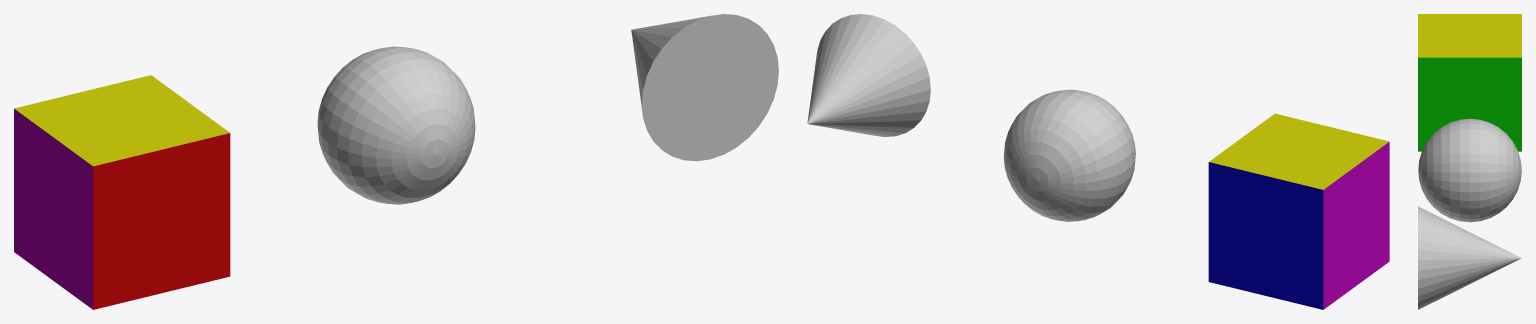
Rendered from lhx.obj.
The picture shows the model from 3 angles, left to right: view 1: azimuth 30°, elevation 25°; view 2: azimuth 150°, elevation 25°; view 3: azimuth 270°, elevation 25°; orthographic projection. The views are drawn at different scales.
Visible parts, largest first — view 1: Cube, Sphere, Cone; view 2: Cube, Sphere, Cone; view 3: Cube, Sphere, Cone.
Part boxes in pixels (left/top/right/bottom): Cube: left=14, top=75, right=230, bottom=309; Sphere: left=317, top=46, right=475, bottom=204; Cone: left=631, top=14, right=778, bottom=161; Cube: left=1208, top=113, right=1389, bottom=309; Sphere: left=1003, top=89, right=1135, bottom=221; Cone: left=807, top=14, right=930, bottom=136; Cube: left=1418, top=14, right=1521, bottom=151; Sphere: left=1418, top=118, right=1521, bottom=222; Cone: left=1418, top=206, right=1521, bottom=309.
Size of the model in its own units: 3.58 by 0.7167 by 0.7167.
